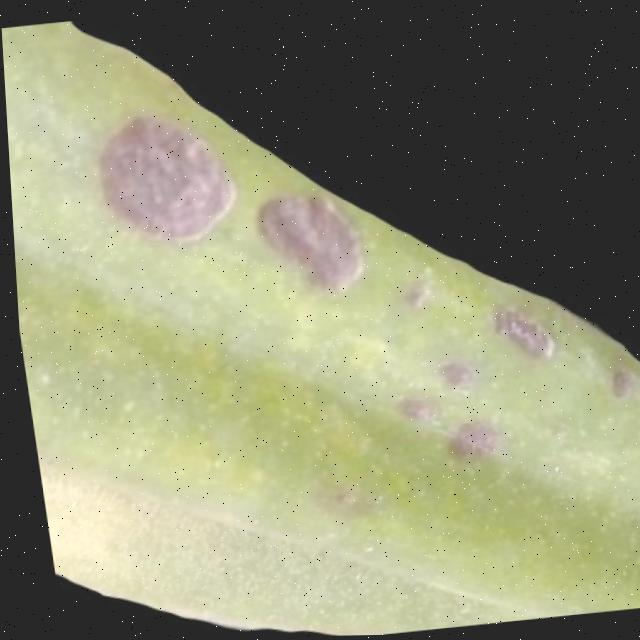mite: (79, 73, 570, 502), (81, 91, 366, 319), (374, 300, 567, 474), (381, 350, 499, 471), (483, 302, 554, 364), (421, 349, 478, 400), (435, 417, 495, 462), (387, 391, 433, 424), (428, 358, 470, 393), (599, 366, 632, 400), (393, 279, 429, 310)
spots: (1, 0, 640, 640)
sunburn: (84, 102, 241, 252), (245, 182, 369, 302)
